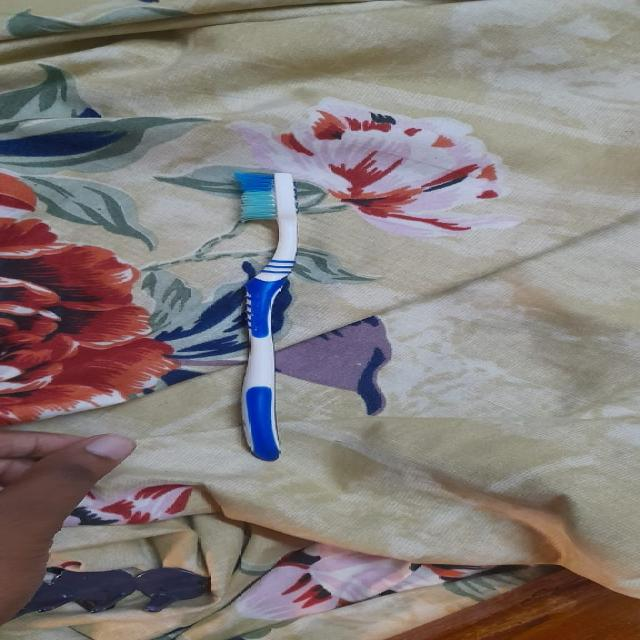Tooth_Brush - Non Recyclable: (156, 150, 330, 476)
